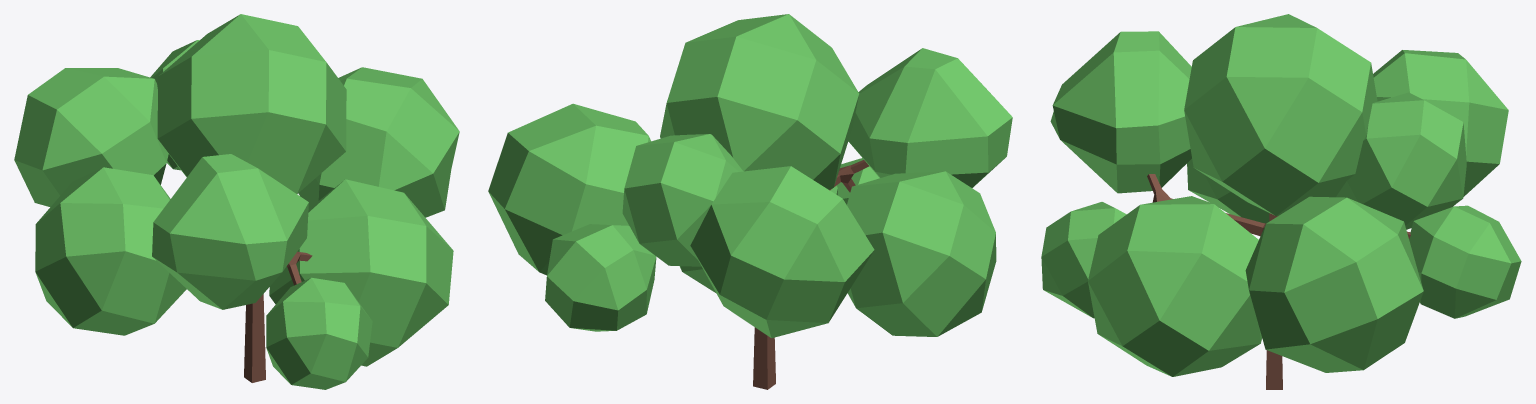
File: Tree.fbx
The picture shows the model from 3 angles, left to right: view 1: azimuth 30°, elevation 25°; view 2: azimuth 150°, elevation 25°; view 3: azimuth 270°, elevation 25°; orthographic projection. The views are drawn at different scales.
Parts seen in each view (by area): view 1: leafs, tree; view 2: leafs, tree; view 3: leafs, tree.
Part boxes in pixels (x1,y1,x2,y2): leafs: [14, 14, 459, 389]; tree: [244, 251, 312, 382]; leafs: [488, 14, 1012, 338]; tree: [753, 160, 869, 389]; leafs: [1041, 14, 1521, 376]; tree: [1147, 174, 1410, 389].
Size of the model in its own units: 15.33 by 14.21 by 11.81.
